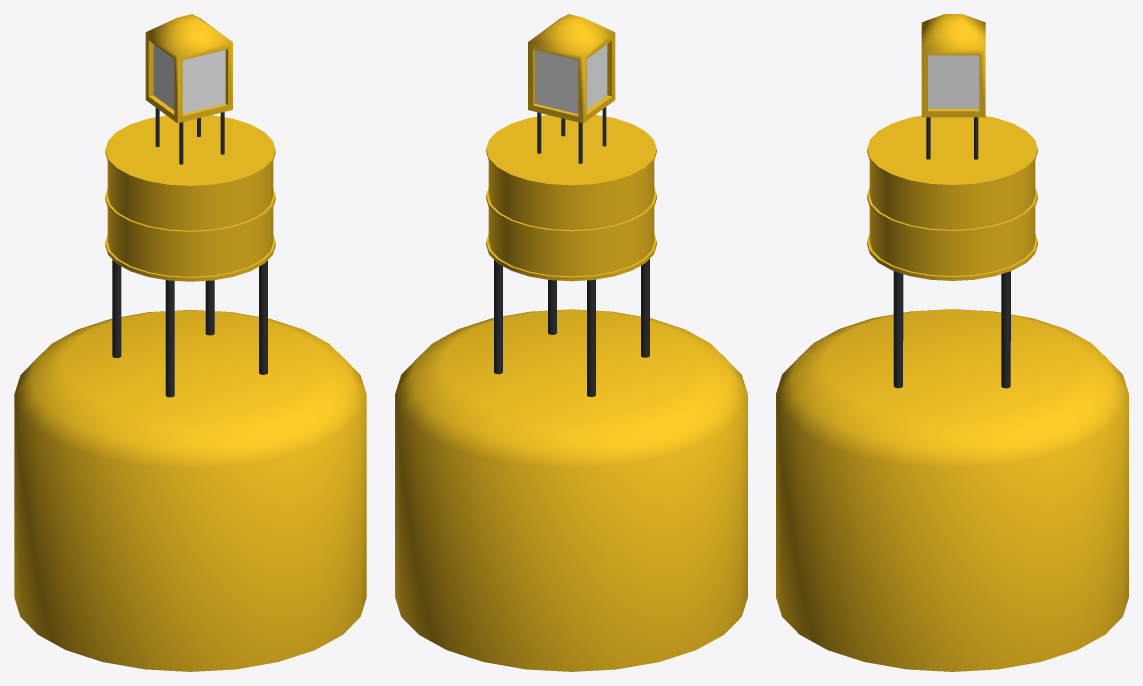
The model's file is boje.fbx.
The picture shows the model from 3 angles, left to right: view 1: azimuth 30°, elevation 25°; view 2: azimuth 150°, elevation 25°; view 3: azimuth 270°, elevation 25°; orthographic projection.
Visible parts, largest first — view 1: polymsh10; view 2: polymsh10; view 3: polymsh10.
Part boxes in pixels (x1,y1,x2,y2): polymsh10: [14, 14, 366, 671]; polymsh10: [395, 14, 747, 671]; polymsh10: [776, 14, 1128, 671].
Size of the model in its own units: 31.12 by 56.36 by 31.12.
